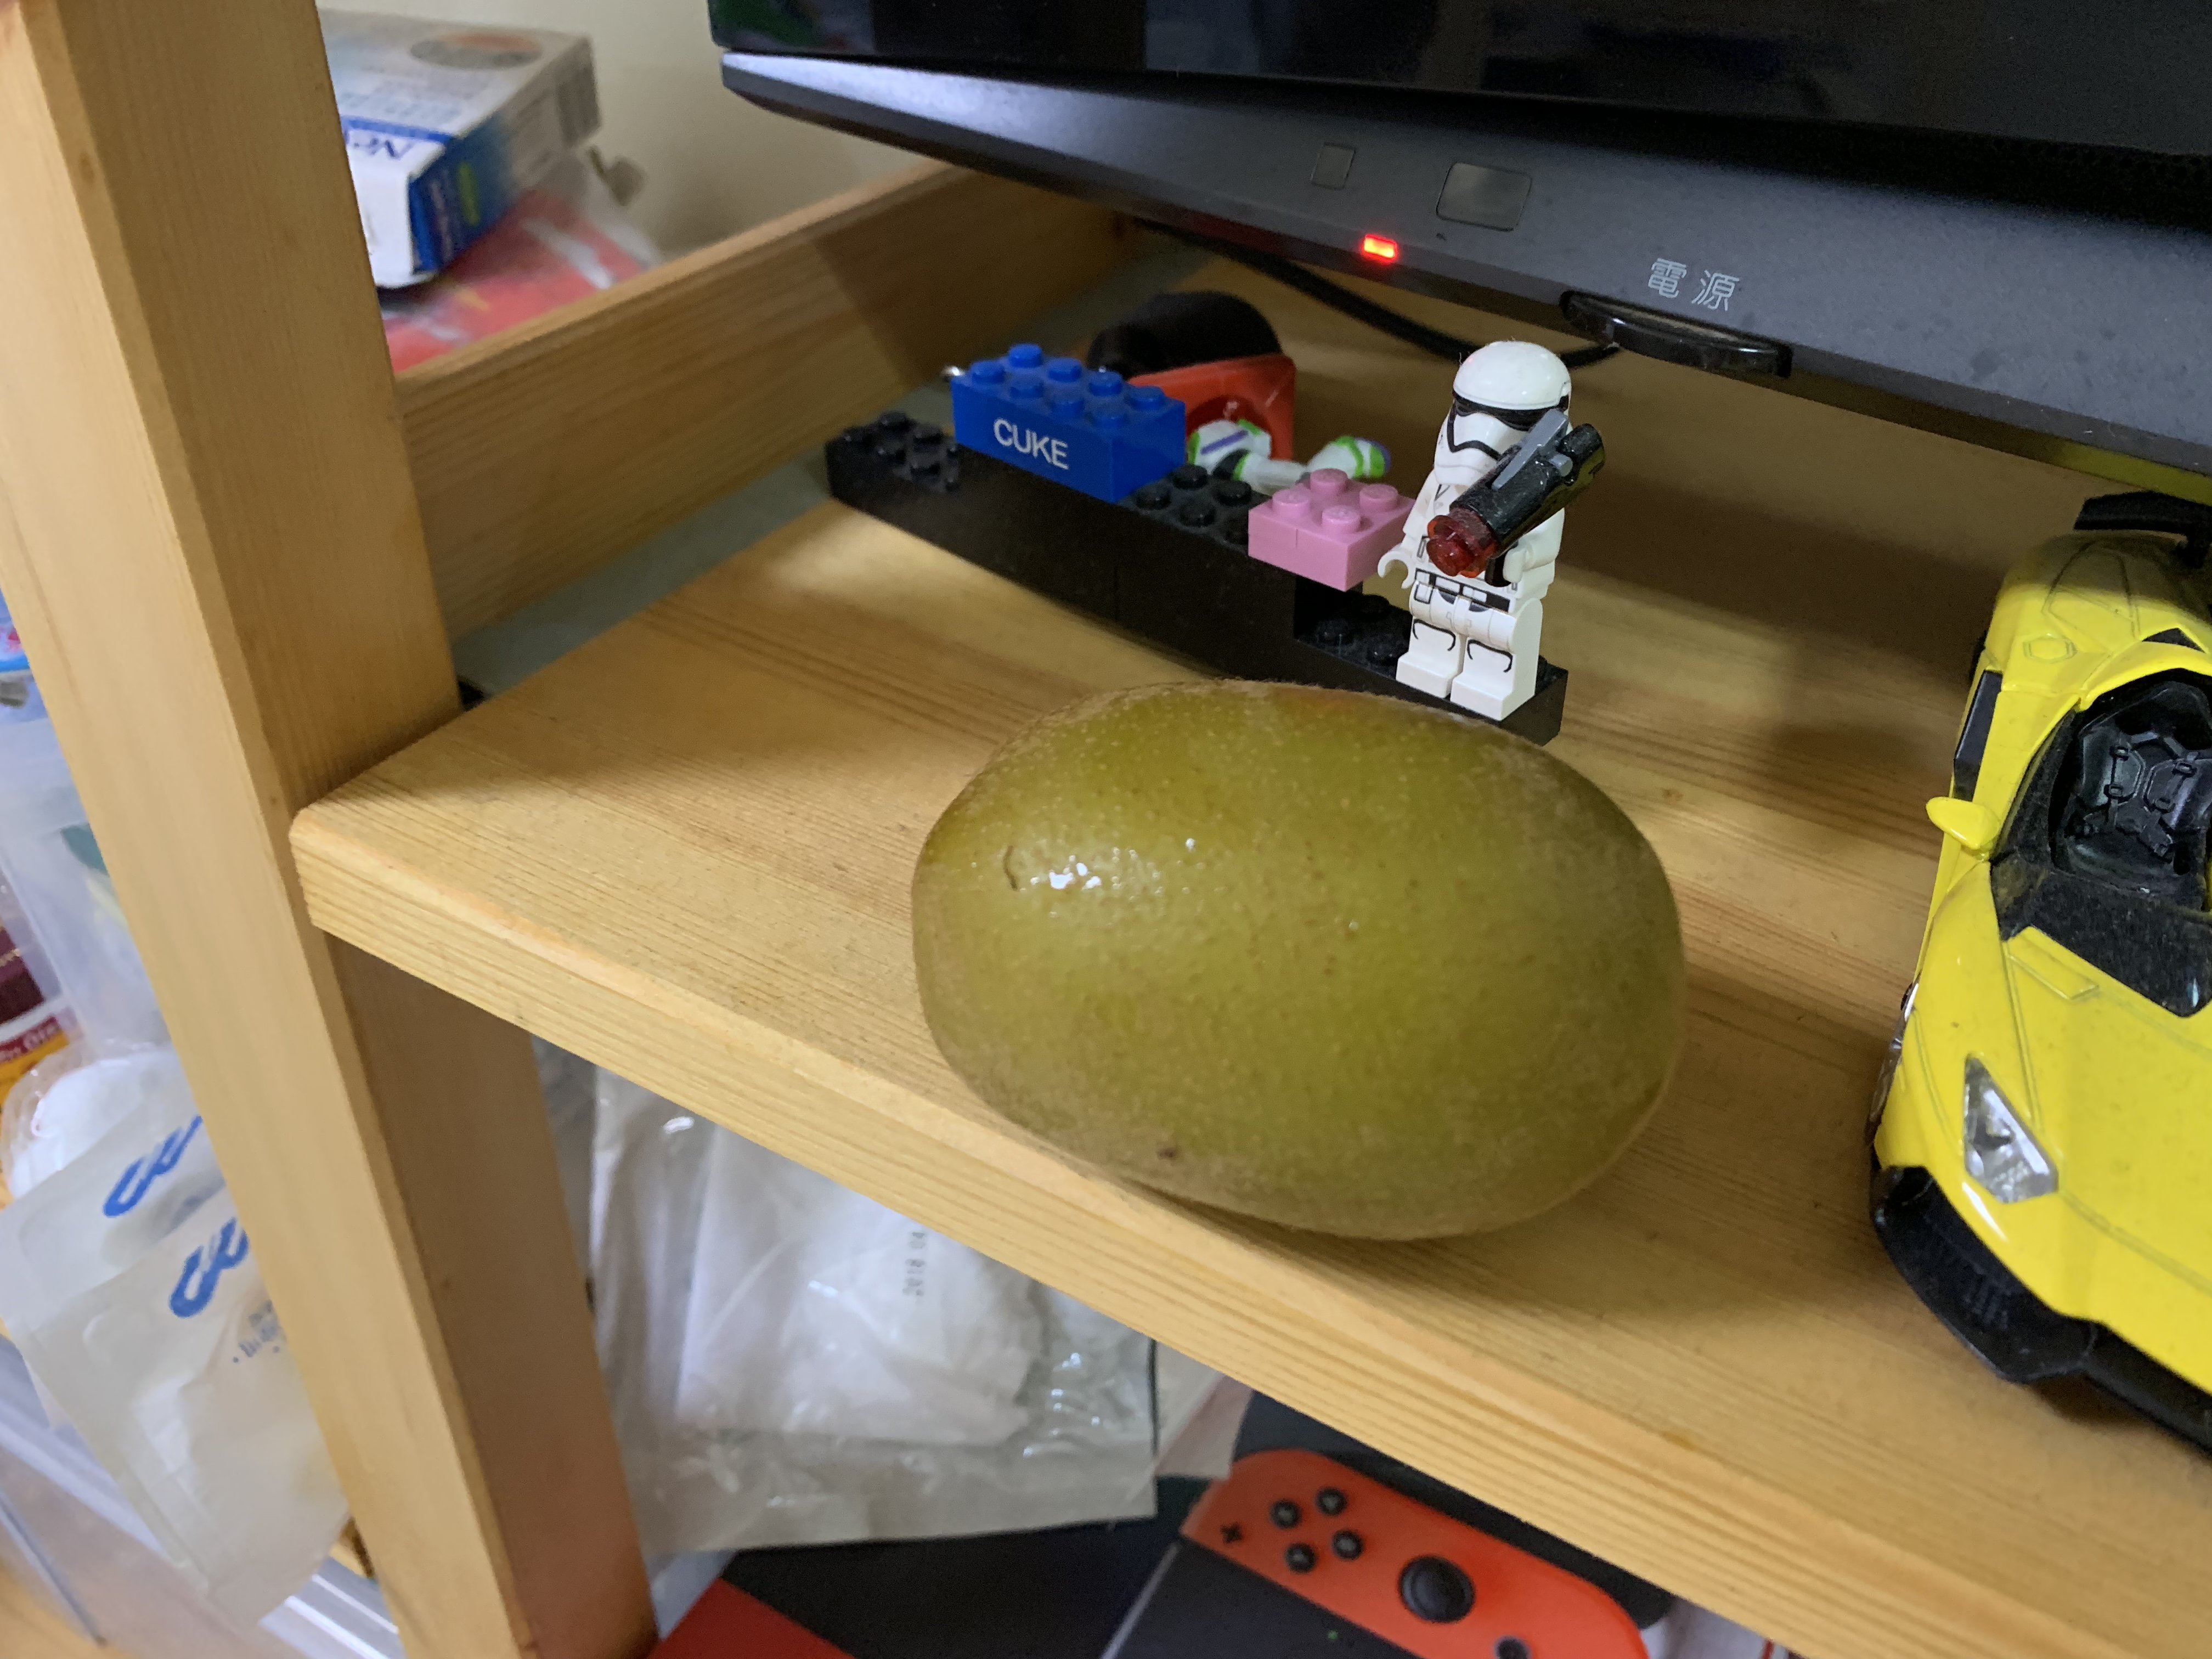kiwi: (907, 676, 1686, 1241)
